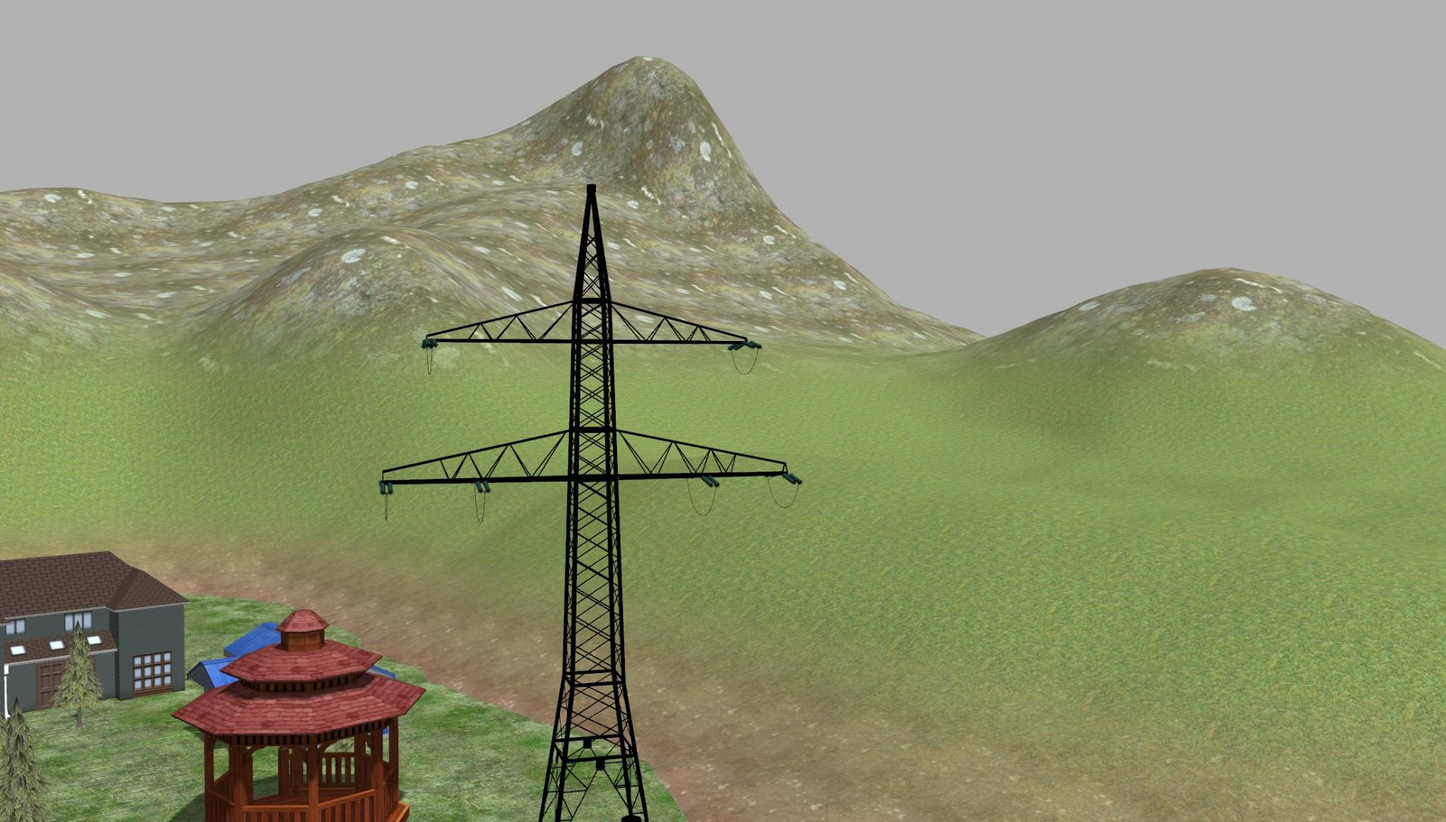tower: (381, 188, 786, 822)
